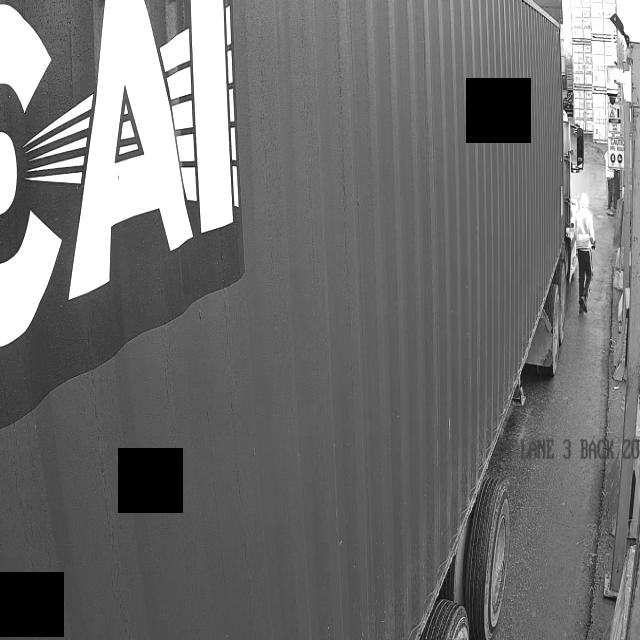container_company_logo: (3, 0, 261, 350), (567, 528, 575, 528)
driver: (575, 195, 595, 312)
truck_with_container: (0, 0, 578, 640)
